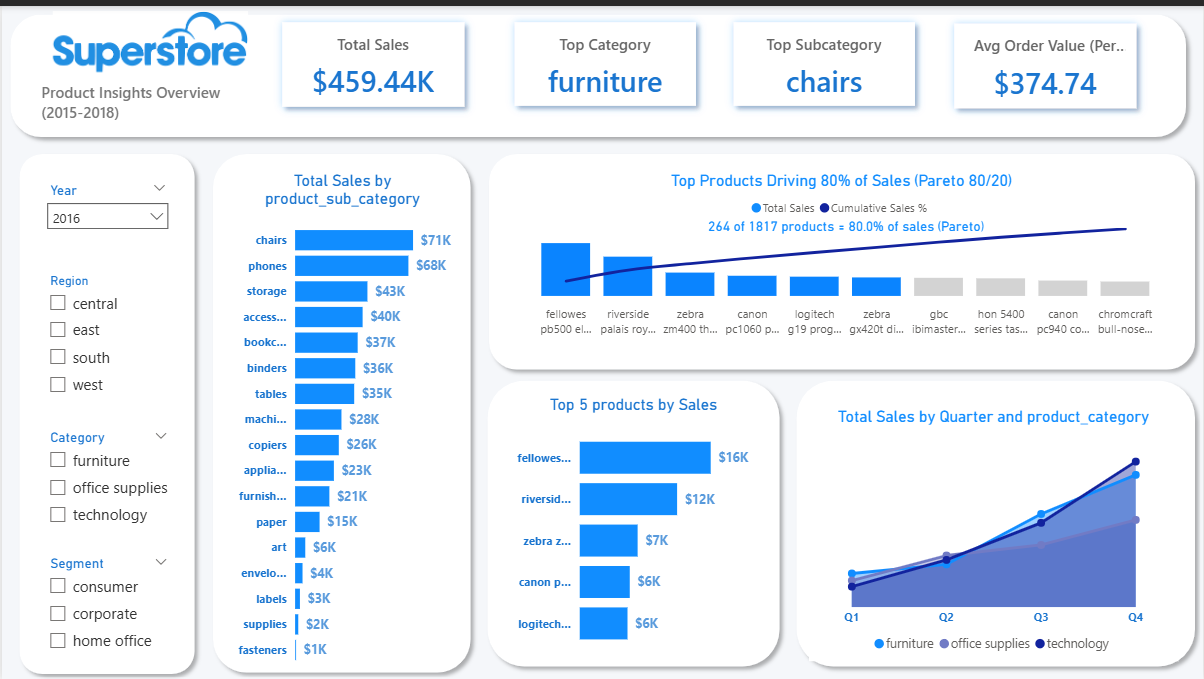

This screenshot's page, from the dashboard's own definition file:
{"tool":"powerbi","page":{"name":"Products Insights ","canvas":[1280,720],"ordinal":1},"visuals":[{"type":"shape","box":[837.2,389.8,442.6,322.7],"z":0},{"type":"shape","box":[508.1,389.8,329.1,322.7],"z":1000},{"type":"shape","box":[509.7,148.6,770.1,247.6],"z":2000},{"type":"shape","box":[215.7,148.6,292.4,570.4],"z":3000},{"type":"shape","box":[0,0,1270.1,148.6],"z":4000},{"type":"image","title":"Executive Dashboard","box":[36.8,0,242.8,75.4],"z":5000},{"type":"textbox","box":[36.8,75.4,242.8,60.3],"z":6000},{"type":"cardVisual","fields":{"Data":["Measure.Total Sales"]},"box":[281.2,0,228.5,124.6],"z":7000},{"type":"cardVisual","fields":{"Data":["Measure.Top Category"]},"box":[528.8,0,227.8,123.9],"z":8000},{"type":"cardVisual","fields":{"Data":["Measure.Top Subcategory"]},"box":[762.9,0,227.8,123.9],"z":9000},{"type":"shape","box":[9.6,148.6,204.5,572],"z":11000},{"type":"slicer","fields":{"Values":["Calendar.Year"]},"box":[39.1,182.1,148.6,87.9],"z":12000},{"type":"slicer","fields":{"Values":["region_info.region"]},"box":[38.3,279.6,150.2,156.6],"z":13000},{"type":"slicer","fields":{"Values":["product_info.product_category"]},"box":[38.3,445.7,150.2,124.6],"z":14000},{"type":"slicer","fields":{"Values":["customer_info.customer_segment"]},"box":[38.3,580,150.2,118.2],"z":15000},{"type":"cardVisual","fields":{"Data":["Measure.Avg Order Value (Product)"]},"box":[996.9,1.6,228.5,124.6],"z":16000},{"type":"clusteredBarChart","fields":{"Y":["Measure.Total Sales"],"Category":["product_info.product_sub_category"]},"box":[234.9,175.7,255.6,536.8],"z":17000},{"type":"clusteredBarChart","title":"Top 5 products by Sales","fields":{"Y":["Measure.Total Sales"],"Category":["product_info.product_name"]},"box":[532,413.8,281.2,284.4],"z":18000},{"type":"lineChart","fields":{"Y":["Measure.Total Sales"],"Series":["product_info.product_category"],"Category":["Calendar.Year Hierarchy.Year","Calendar.Year Hierarchy.Quarter","Calendar.Year Hierarchy.MonthName","Calendar.Year Hierarchy.full_date"]},"box":[859.5,426.6,393,271.6],"z":19000},{"type":"lineClusteredColumnComboChart","title":"Top Products Driving 80% of Sales (Pareto 80/20)","fields":{"Category":["product_info.product_name"],"Y":["Measure.Total Sales"],"Y2":["Measure.Cumulative Sales %"]},"box":[533.6,175.7,720.5,183.7],"z":20000},{"type":"cardVisual","fields":{"Data":["Measure.Pareto Summary Text"]},"box":[734.9,201.3,341.9,49.5],"z":21000}]}

Visuals, with their boxes in screenshot pixels (x1, y1, x2, y2), scaled from the page's 1280x720 canvas onto the 1204x679 screenshot:
shape: {"x1": 787, "y1": 368, "x2": 1203, "y2": 672}
shape: {"x1": 478, "y1": 368, "x2": 787, "y2": 672}
shape: {"x1": 479, "y1": 140, "x2": 1203, "y2": 374}
shape: {"x1": 203, "y1": 140, "x2": 478, "y2": 678}
shape: {"x1": 0, "y1": 0, "x2": 1195, "y2": 140}
"Executive Dashboard" image: {"x1": 35, "y1": 0, "x2": 263, "y2": 71}
textbox: {"x1": 35, "y1": 71, "x2": 263, "y2": 128}
cardVisual - Measure.Total Sales: {"x1": 265, "y1": 0, "x2": 479, "y2": 118}
cardVisual - Measure.Top Category: {"x1": 497, "y1": 0, "x2": 712, "y2": 117}
cardVisual - Measure.Top Subcategory: {"x1": 718, "y1": 0, "x2": 932, "y2": 117}
shape: {"x1": 9, "y1": 140, "x2": 201, "y2": 678}
slicer - Calendar.Year: {"x1": 37, "y1": 172, "x2": 177, "y2": 255}
slicer - region_info.region: {"x1": 36, "y1": 264, "x2": 177, "y2": 411}
slicer - product_info.product_category: {"x1": 36, "y1": 420, "x2": 177, "y2": 538}
slicer - customer_info.customer_segment: {"x1": 36, "y1": 547, "x2": 177, "y2": 658}
cardVisual - Measure.Avg Order Value (Product): {"x1": 938, "y1": 2, "x2": 1153, "y2": 119}
clusteredBarChart - Measure.Total Sales x product_info.product_sub_category: {"x1": 221, "y1": 166, "x2": 461, "y2": 672}
"Top 5 products by Sales" clusteredBarChart: {"x1": 500, "y1": 390, "x2": 765, "y2": 658}
lineChart - Measure.Total Sales x product_info.product_category: {"x1": 808, "y1": 402, "x2": 1178, "y2": 658}
"Top Products Driving 80% of Sales (Pareto 80/20)" lineClusteredColumnComboChart: {"x1": 502, "y1": 166, "x2": 1180, "y2": 339}
cardVisual - Measure.Pareto Summary Text: {"x1": 691, "y1": 190, "x2": 1013, "y2": 237}
